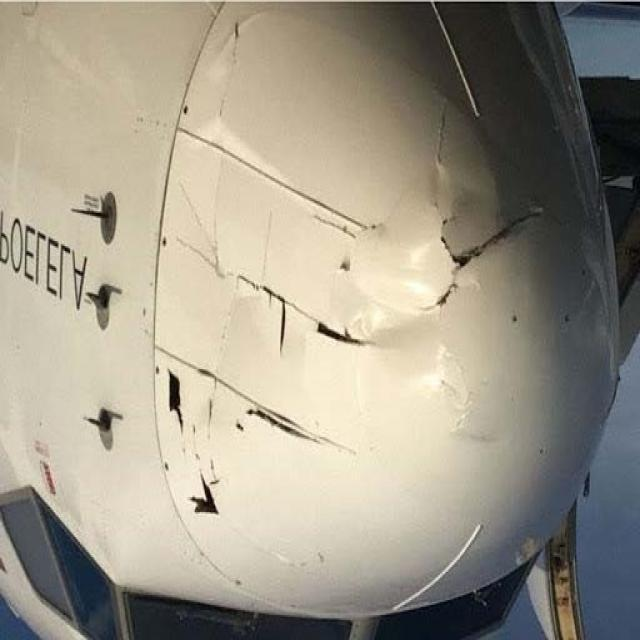Rupture: (420, 201, 559, 298), (310, 314, 361, 358), (249, 412, 305, 442), (195, 482, 230, 527), (157, 374, 185, 426)
